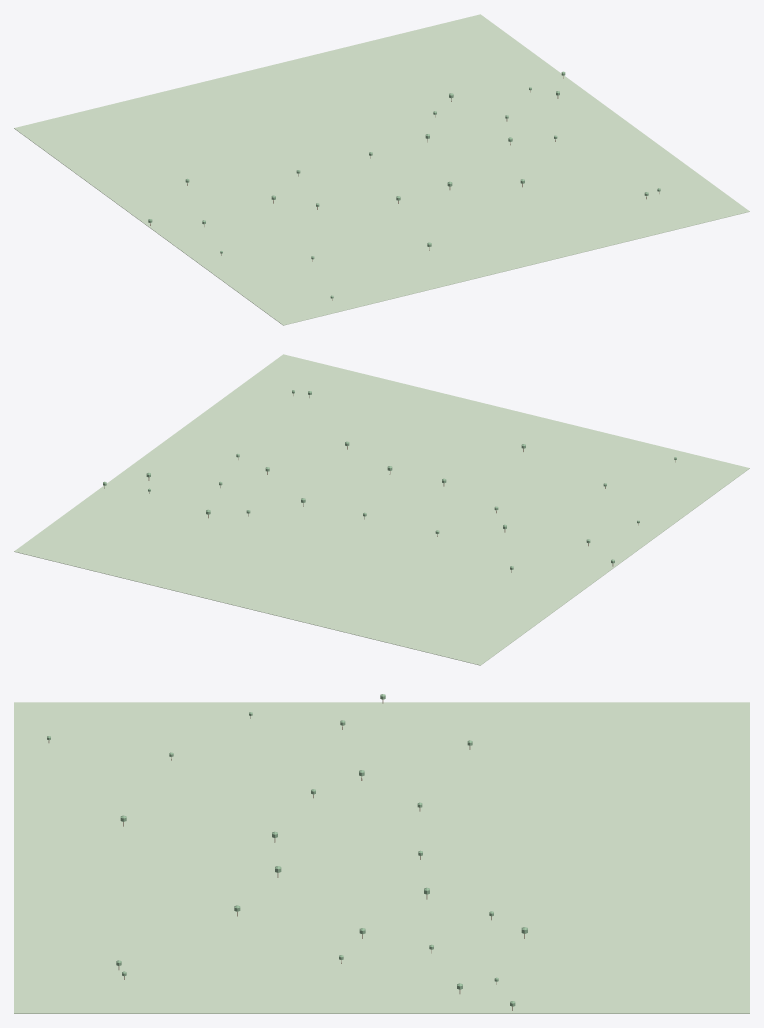
Rendered from chunk_3_0_low.glb.
The picture shows the model from 3 angles, top to bottom: view 1: azimuth 30°, elevation 25°; view 2: azimuth 150°, elevation 25°; view 3: azimuth 270°, elevation 25°; orthographic projection. The views are drawn at different scales.
Visible parts, largest first — view 1: city_grass; view 2: city_grass; view 3: city_grass, city_foliage_dark.
Boxes of the visible parts, x1,y1,x2,y2 form: city_grass: (14,14,749,325); city_grass: (14,354,749,665); city_grass: (14,702,749,1013); city_foliage_dark: (47,694,527,1006).
Size of the model in its own units: 512 by 9.6 by 512.
